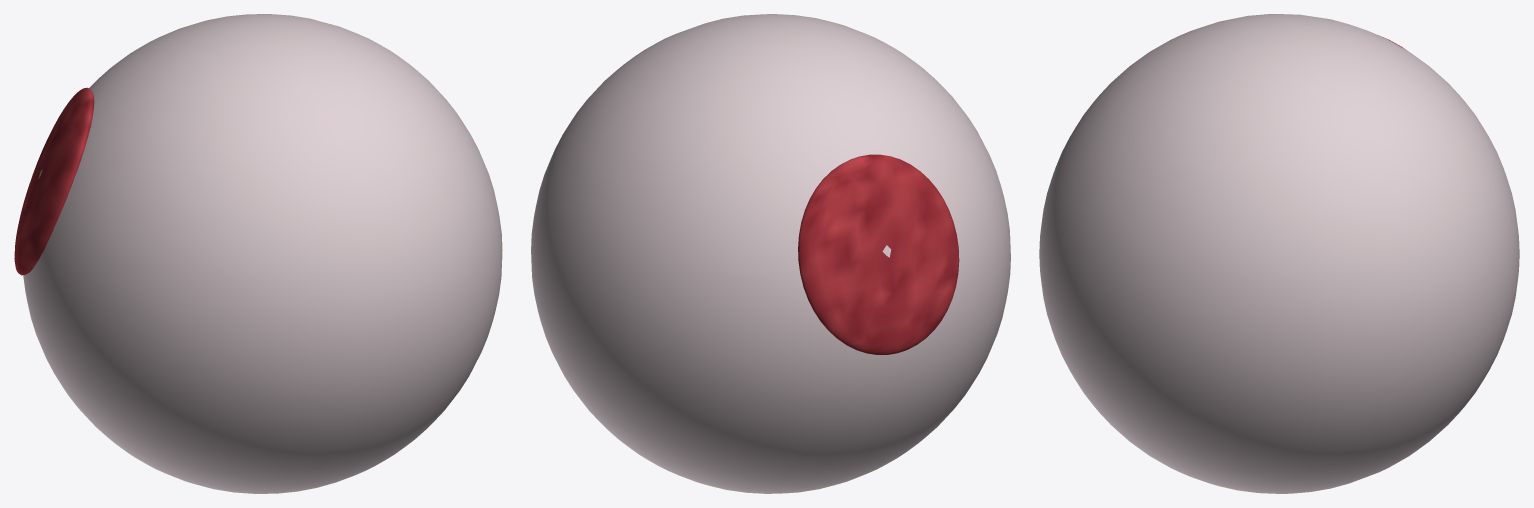
Rendered from hafta_25.glb.
The picture shows the model from 3 angles, left to right: view 1: azimuth 30°, elevation 25°; view 2: azimuth 150°, elevation 25°; view 3: azimuth 270°, elevation 25°; orthographic projection.
Parts seen in each view (by area): view 1: Amniyon_kesesi, Plasenta; view 2: Amniyon_kesesi, Plasenta; view 3: Amniyon_kesesi.
Part boxes in pixels (left/top/right/bottom): Amniyon_kesesi: left=23, top=14, right=502, bottom=493; Plasenta: left=14, top=87, right=94, bottom=275; Amniyon_kesesi: left=531, top=14, right=1010, bottom=493; Plasenta: left=798, top=154, right=959, bottom=354; Amniyon_kesesi: left=1039, top=14, right=1519, bottom=493.
Size of the model in its own units: 1.56 by 1.56 by 1.56.
